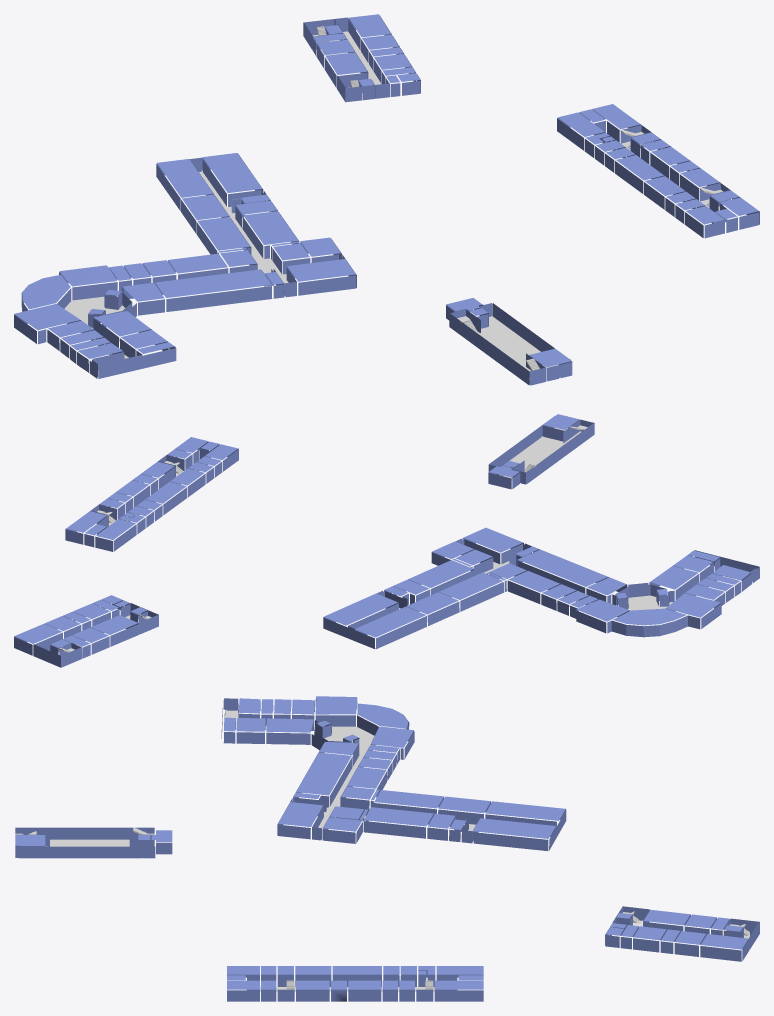
The model's file is dstu_6.glb.
The picture shows the model from 3 angles, top to bottom: view 1: azimuth 30°, elevation 25°; view 2: azimuth 150°, elevation 25°; view 3: azimuth 270°, elevation 25°; orthographic projection. The views are drawn at different scales.
Parts seen in each view (by area): view 1: 6, 66; view 2: 6, 66; view 3: 6, 66.
Part boxes in pixels (x1,y1,x2,y2): 6: [14, 104, 759, 385]; 66: [303, 14, 420, 102]; 6: [65, 414, 759, 649]; 66: [14, 595, 158, 667]; 6: [15, 696, 566, 1001]; 66: [605, 906, 759, 961].
Bounding box in the file's own units: 155 × 5.99 × 170.
